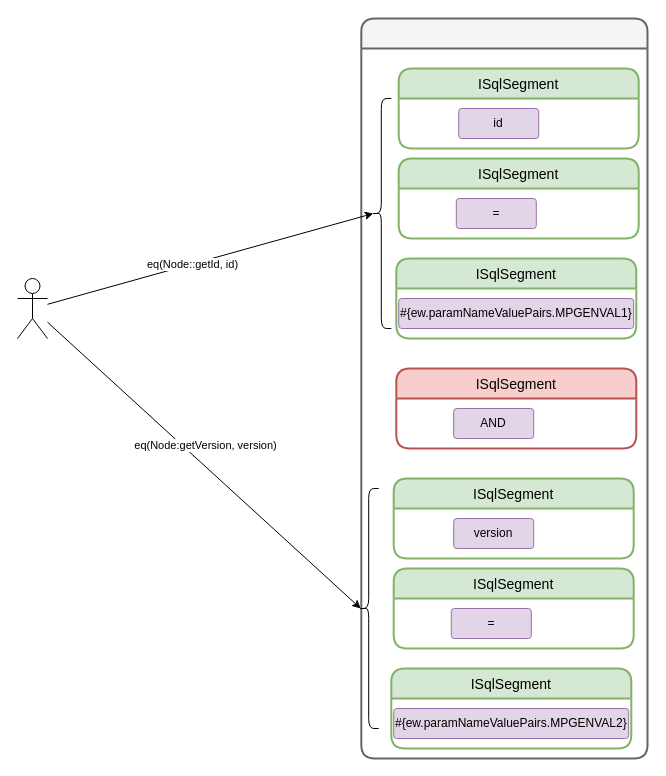
This 666x776 diagram has some shape labels left out. The shapes that lost their labels are listed below. From the top down, each one's box as (x1, y1, x2, y2) in pixels, then its label:
(16, 278, 48, 338): Actor
(360, 17, 648, 759): NormalSegmentList
